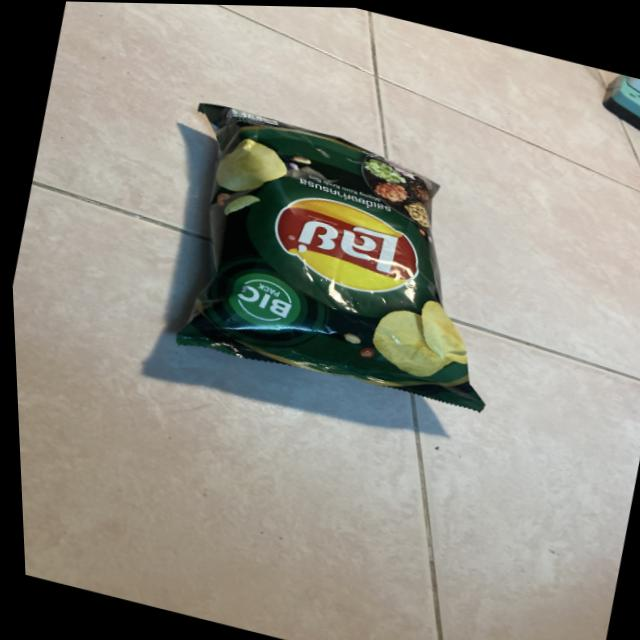Laygreen: (109, 80, 531, 440)
